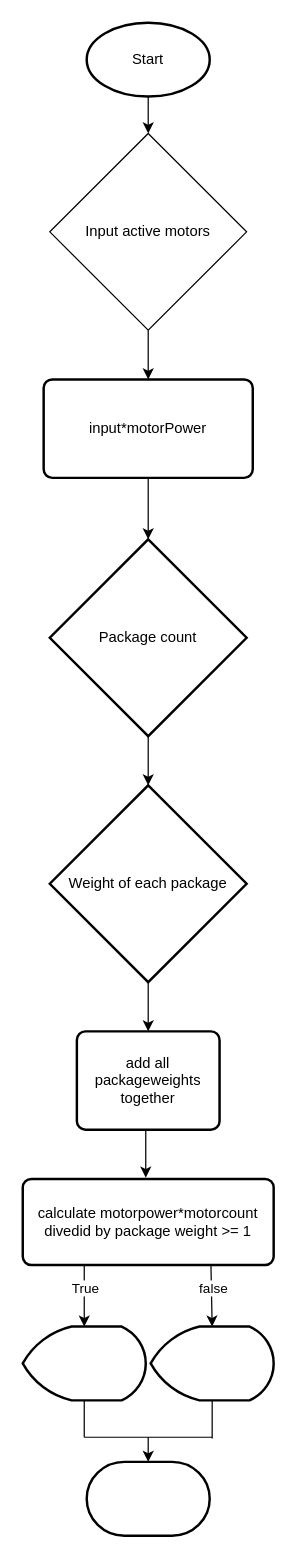
This 295x1557 diagram has some shape labels left out. The shapes that lost their labels are listed below. From the top down, each one's box as (x1, y1, x2, y2) in pixels, then its label:
(21, 1325, 146, 1401): Okidoki!
(149, 1325, 274, 1401): Not Okidoki!
(85, 1460, 210, 1536): End program
